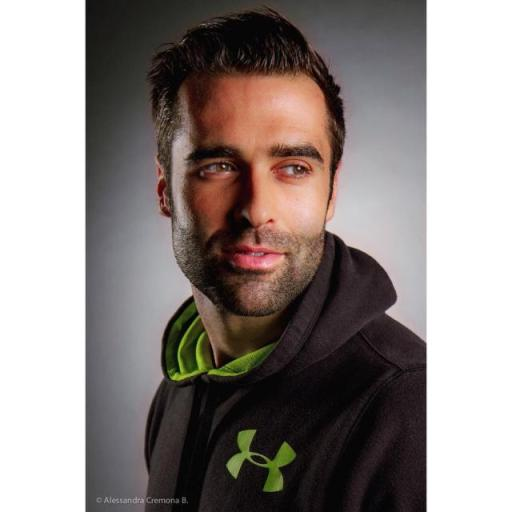Under Armour: (224, 425, 299, 495)
